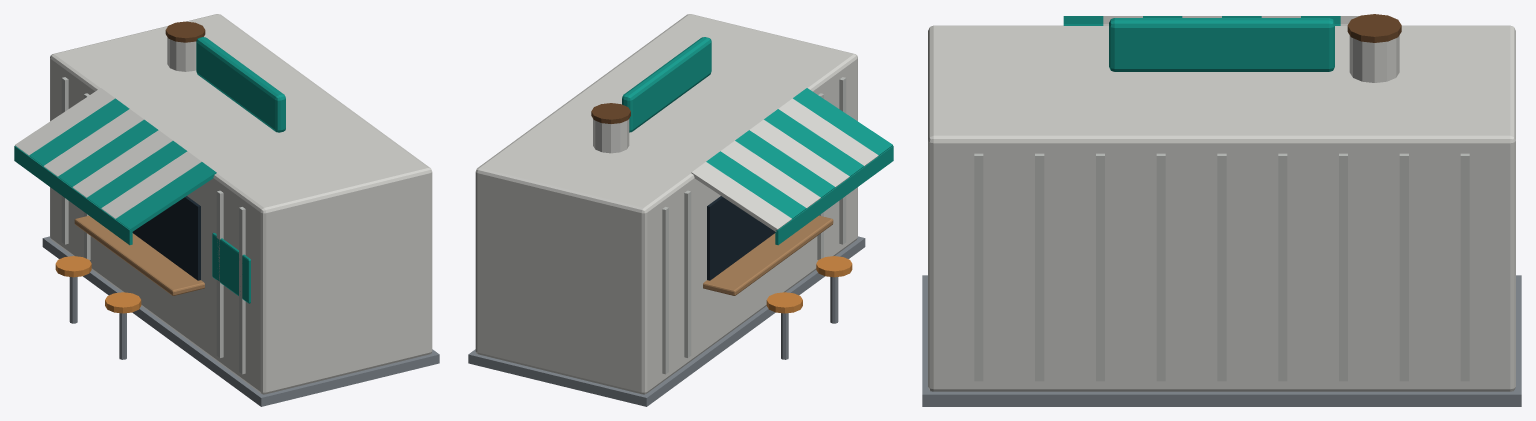
Rendered from cafe.glb.
3 views of the same model, side by side, from view 1: azimuth 30°, elevation 25°; view 2: azimuth 150°, elevation 25°; view 3: azimuth 270°, elevation 25° (orthographic). The views are drawn at different scales.
Visible parts, largest first — view 1: cafe; view 2: cafe; view 3: cafe.
Boxes of the visible parts, box(x1,y1,x2,y2) form: cafe: box(14, 14, 439, 406); cafe: box(468, 14, 893, 406); cafe: box(922, 14, 1521, 406).
Size of the model in its own units: 3.62 by 3.2 by 5.3.
